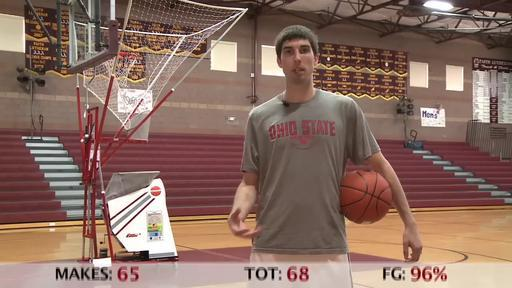ball: (340, 170, 392, 225)
human: (227, 24, 422, 288)
rim: (104, 50, 140, 86)
